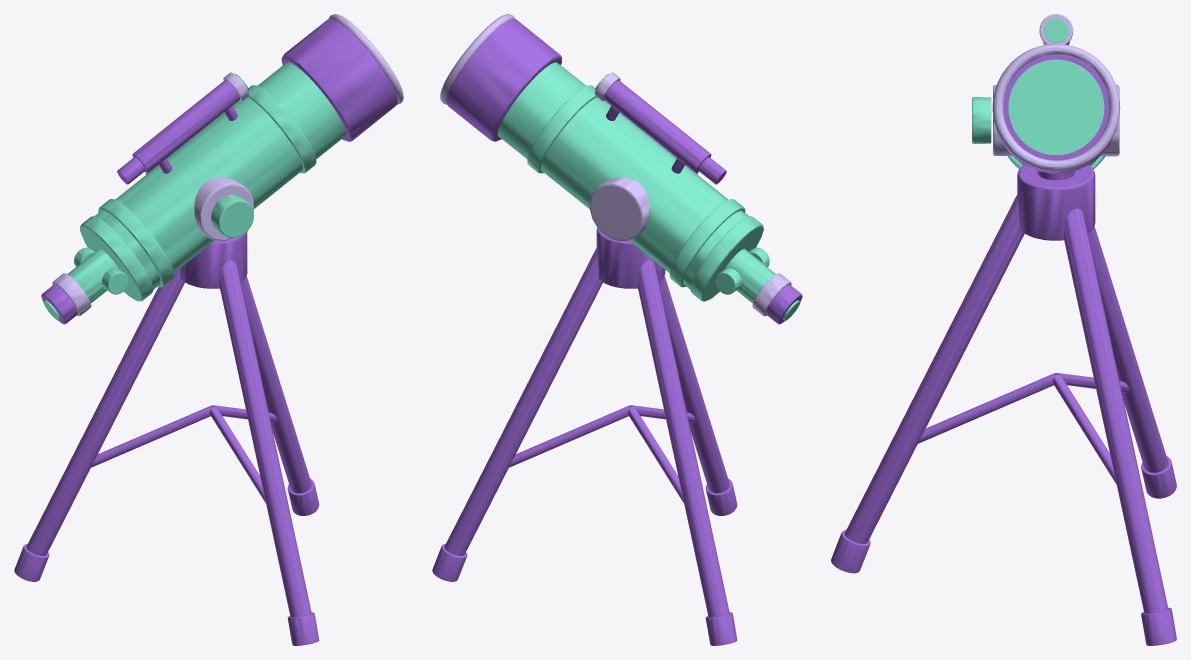
The model's file is telescope-B9cY8wiI.glb.
3 views of the same model, side by side, from view 1: azimuth 30°, elevation 25°; view 2: azimuth 150°, elevation 25°; view 3: azimuth 270°, elevation 25° (orthographic). The views are drawn at different scales.
Parts seen in each view (by area): view 1: Optical Tube • Barrel, Tripod • Leg 3, Objective • Hood, Tripod • Leg 2, Tripod • Leg 1, Finder • Mini Tube, Focuser • Rear Plate, Tripod • Hub, Mount • Altitude Bearing, Optical Tube • Support Band, Optical Tube • Support Band.001, Mount • Lock Knob (+10 smaller); view 2: Optical Tube • Barrel, Tripod • Leg 2, Tripod • Leg 1, Objective • Hood, Tripod • Leg 3, Mount • Altitude Bearing, Finder • Mini Tube, Focuser • Rear Plate, Tripod • Hub, Optical Tube • Support Band, Optical Tube • Support Band.001, Focuser • Drawtube (+9 smaller); view 3: Tripod • Leg 1, Tripod • Leg 3, Objective • Blue Lens, Tripod • Leg 2, Tripod • Hub, Objective • Rim, Objective • Dark Recess, Tripod • Brace 3, Tripod • Brace 1, Tripod • Foot 1, Tripod • Foot 3, Mount • Lock Knob (+3 smaller).
Part boxes in pixels (x1,y1,x2,y2): Optical Tube • Barrel: (95, 62, 345, 289); Tripod • Leg 3: (219, 260, 311, 617); Objective • Hood: (281, 19, 397, 141); Tripod • Leg 2: (26, 269, 184, 555); Tripod • Leg 1: (241, 276, 311, 493); Finder • Mini Tube: (132, 80, 240, 173); Focuser • Rear Plate: (80, 216, 153, 301); Tripod • Hub: (180, 232, 247, 288); Mount • Altitude Bearing: (146, 146, 253, 241); Optical Tube • Support Band: (98, 199, 174, 287); Optical Tube • Support Band.001: (247, 85, 316, 173); Mount • Lock Knob: (211, 194, 253, 237); Optical Tube • Barrel: (497, 62, 748, 289); Tripod • Leg 2: (638, 260, 729, 617); Tripod • Leg 1: (444, 248, 602, 555); Objective • Hood: (445, 18, 561, 141); Tripod • Leg 3: (659, 276, 729, 493); Mount • Altitude Bearing: (590, 145, 697, 241); Finder • Mini Tube: (603, 80, 711, 173); Focuser • Rear Plate: (690, 216, 763, 301); Tripod • Hub: (596, 228, 665, 288); Optical Tube • Support Band: (669, 199, 745, 287); Optical Tube • Support Band.001: (527, 85, 596, 173); Focuser • Drawtube: (725, 249, 776, 303); Tripod • Leg 1: (1064, 208, 1168, 613); Tripod • Leg 3: (844, 195, 1024, 543); Objective • Blue Lens: (1008, 59, 1104, 155); Tripod • Leg 2: (1088, 226, 1168, 472); Tripod • Hub: (1017, 165, 1095, 240); Objective • Rim: (992, 44, 1120, 171); Objective • Dark Recess: (1003, 54, 1109, 160); Tripod • Brace 3: (918, 373, 1054, 443); Tripod • Brace 1: (1053, 374, 1116, 484); Tripod • Foot 1: (1141, 607, 1176, 645); Tripod • Foot 3: (831, 530, 870, 573); Mount • Lock Knob: (972, 97, 991, 143).
Bounding box in the file's own units: 1.39 × 2.04 × 1.07.
